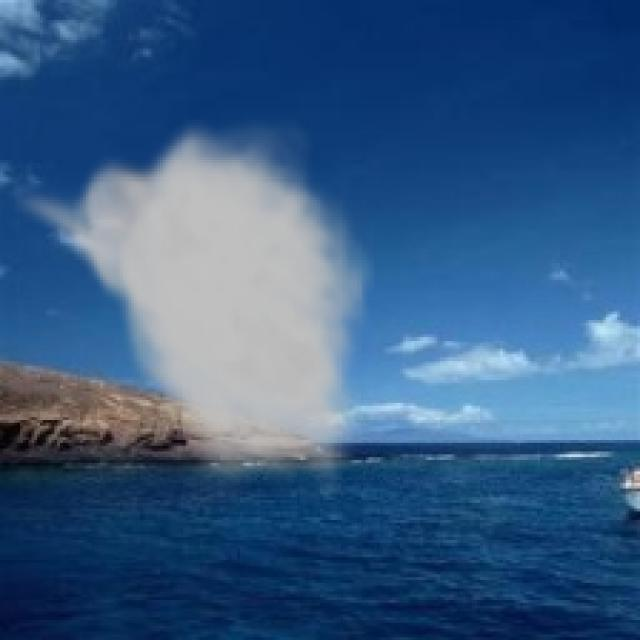smoke: (9, 114, 374, 500)
